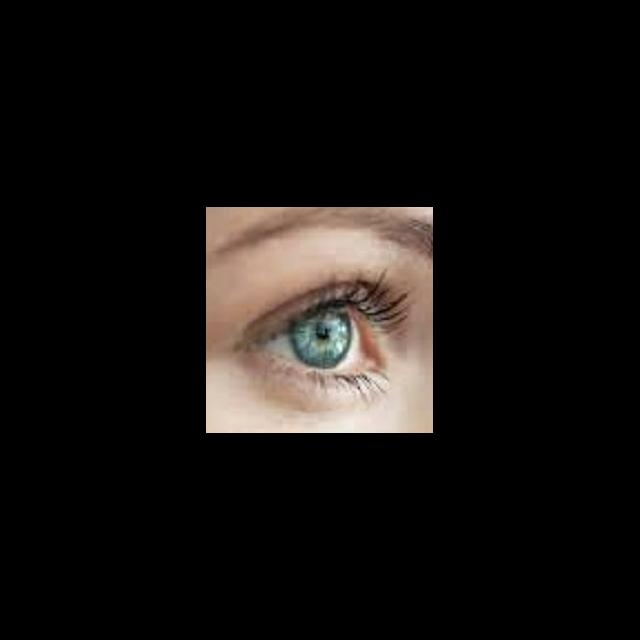eye: (258, 299, 366, 374)
iris: (291, 306, 353, 368)
